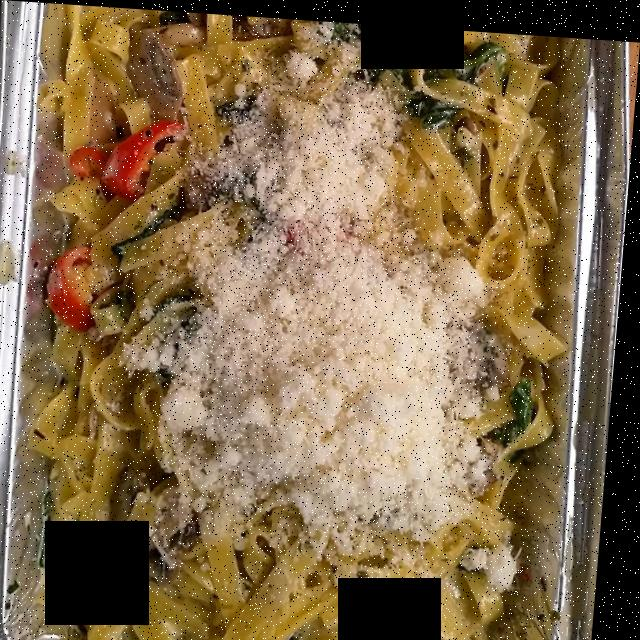cheese: (145, 34, 498, 546)
pasta-linguini-parpadelle-tagliatelle: (31, 32, 565, 640)
